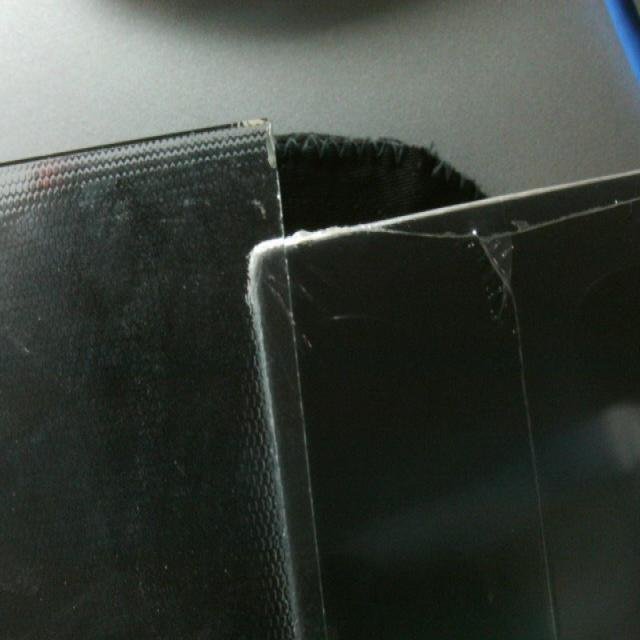edge_chip: (228, 102, 286, 185)
